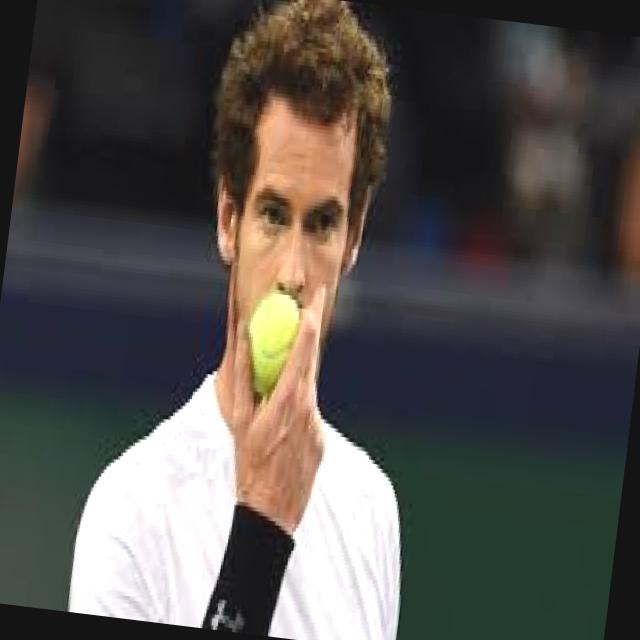Tennis Ball: (238, 290, 303, 397)
